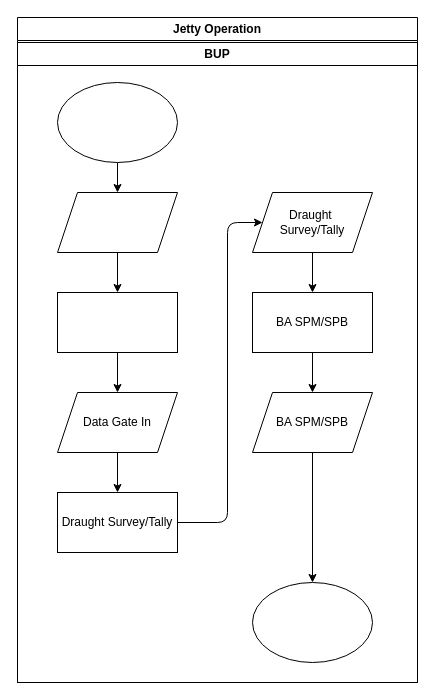
The diagram is 435 pixels wide and 700 high, and some of its shapes have lost their labels. The shapes that lost their labels are listed below. From the top down, each one's centre as x and y in pixels, then its label:
At point 117,122: "Start".
At point 117,222: "Data Laycan".
At point 117,322: "Gate IN".
At point 312,622: "End".
